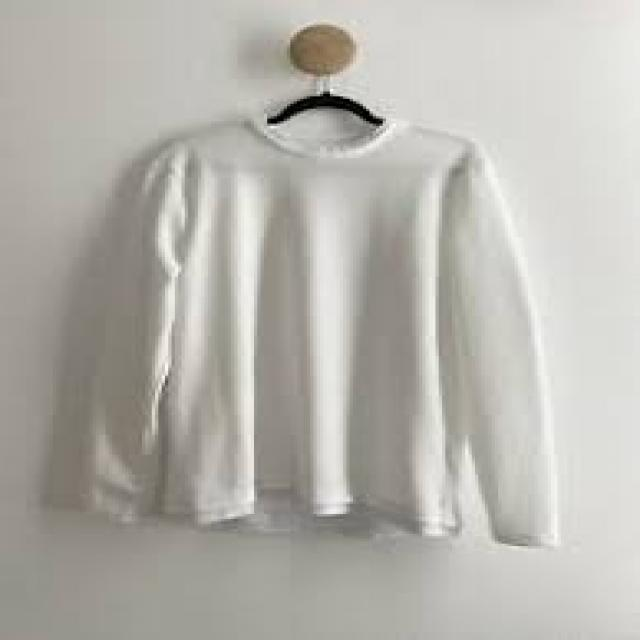plain: (59, 109, 567, 548)
